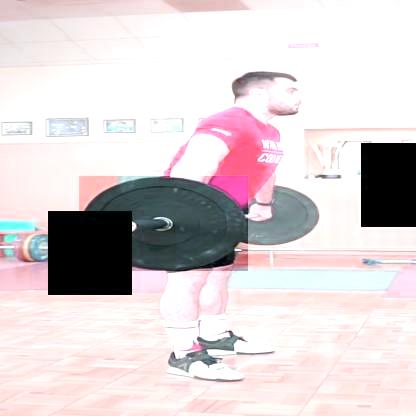barbell: (80, 177, 249, 271)
